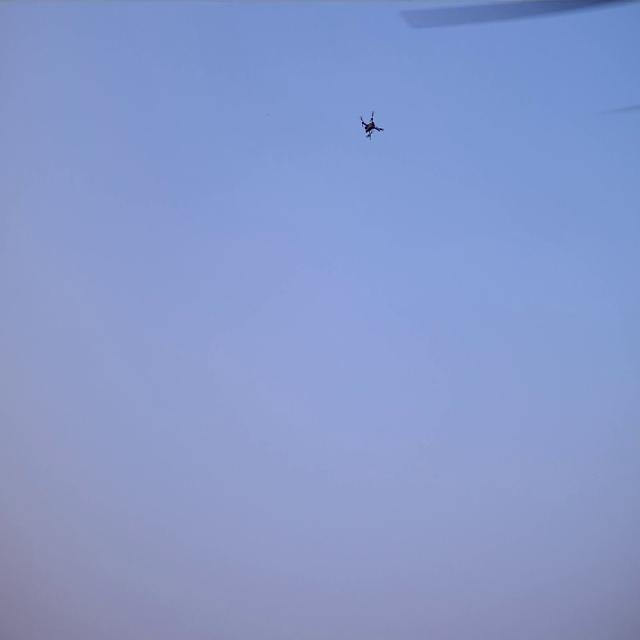UAV: (361, 114, 382, 139)
